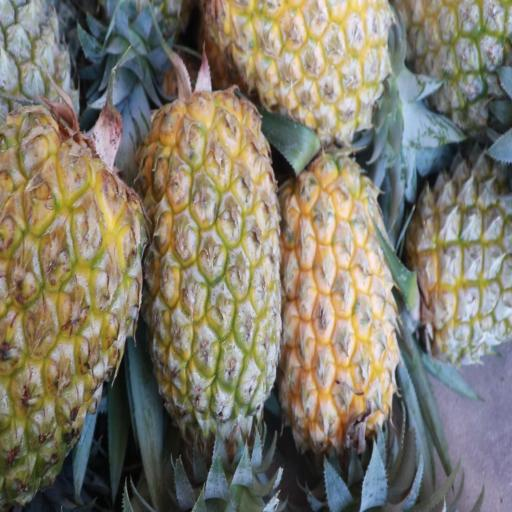------------------------------: (406, 168, 512, 362)
Pineapple - v8 v1: (0, 114, 142, 512), (148, 94, 280, 438), (285, 168, 393, 453), (211, 0, 391, 136)
